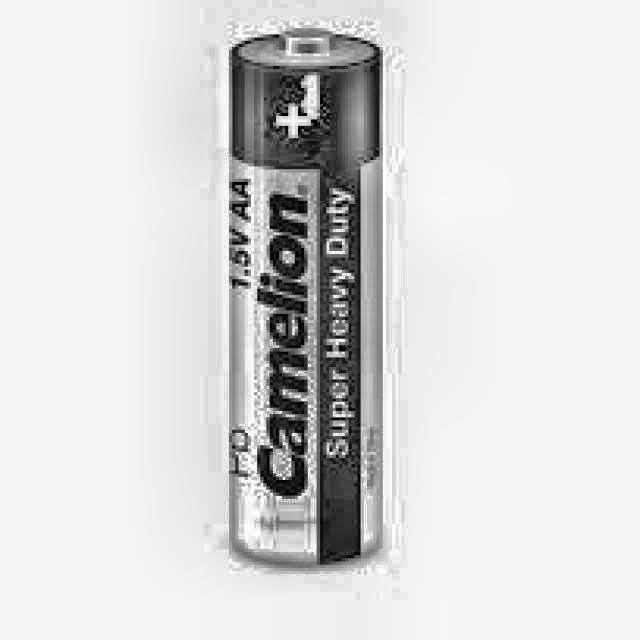battery: (229, 28, 380, 562)
